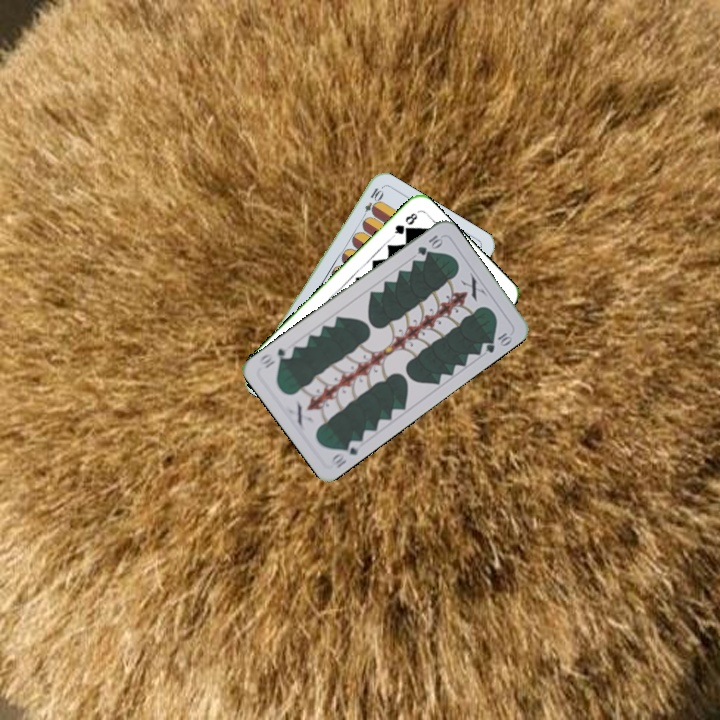E10: (358, 184, 385, 222)
G10: (326, 436, 364, 471), (413, 231, 445, 258)
G8: (388, 209, 420, 240)
